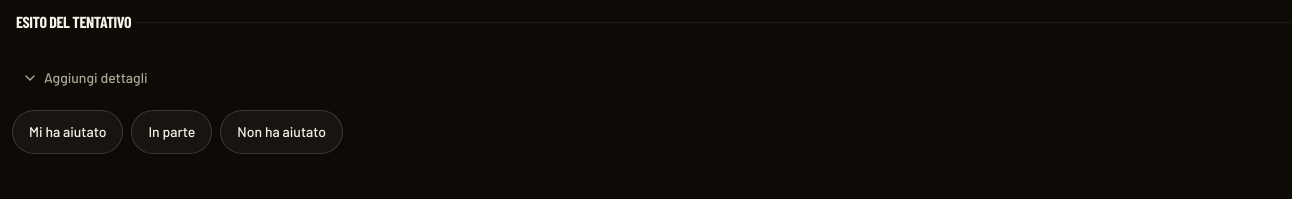
Scenario: RoutineCheckInForm › preserves status-aware conflict copy
What coordinates should you click on to do the following:
click the button "Mi ha aiutato"
I would click on:
 (68, 132)
Its box is top-left (12, 110), bottom-right (123, 154).
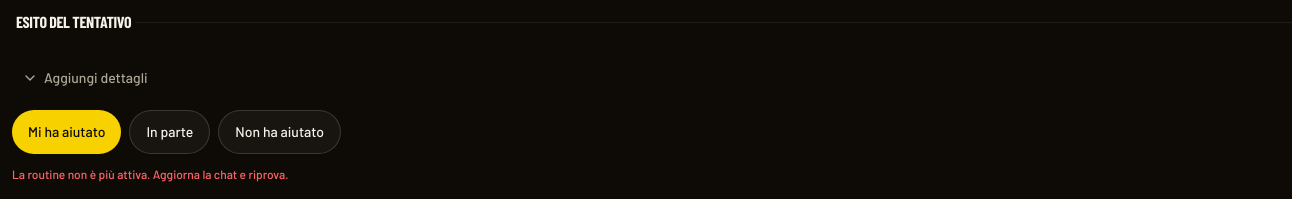
Now the message reads "La routine non è più attiva. Aggiorna la chat e riprova.", box top-left (12, 167), bottom-right (289, 181)
